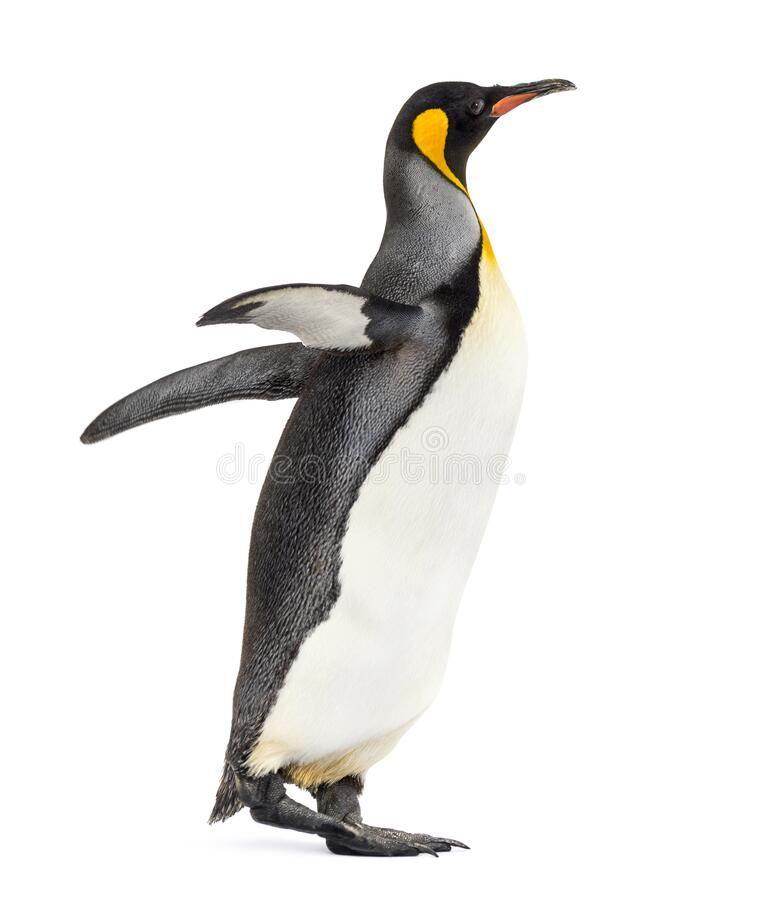king: (69, 34, 582, 884)
